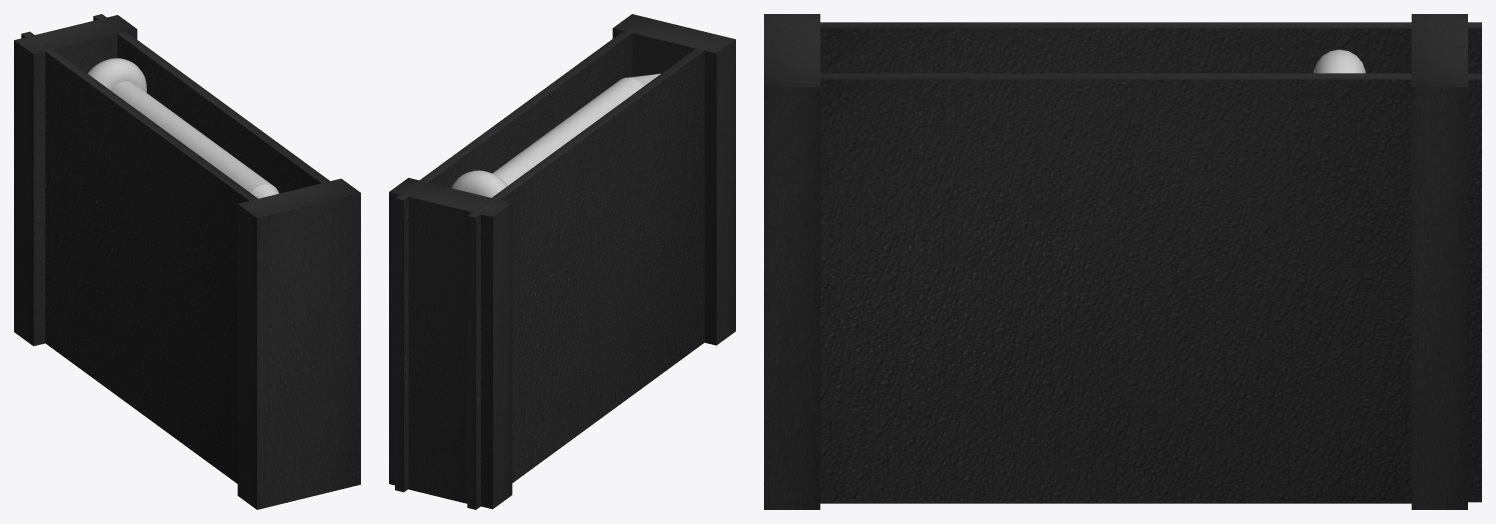
Rendered from nailmagpickup.fbx.
The picture shows the model from 3 angles, left to right: view 1: azimuth 30°, elevation 25°; view 2: azimuth 150°, elevation 25°; view 3: azimuth 270°, elevation 25°; orthographic projection. The views are drawn at different scales.
Visible parts, largest first — view 1: Cube; view 2: Cube; view 3: Cube.
Part boxes in pixels (box(x1,y1,x2,y2)): Cube: box(14, 14, 360, 509); Cube: box(389, 14, 735, 509); Cube: box(764, 14, 1481, 509).
Size of the model in its own units: 299 by 810 by 1237.
2 materials, 1 textured.
